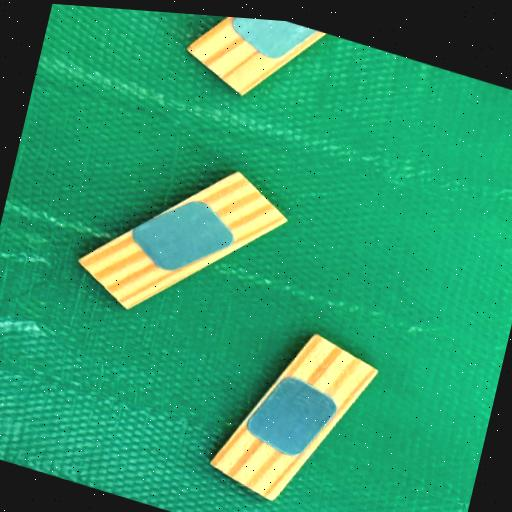objects: (77, 162, 288, 319), (209, 326, 378, 509)
